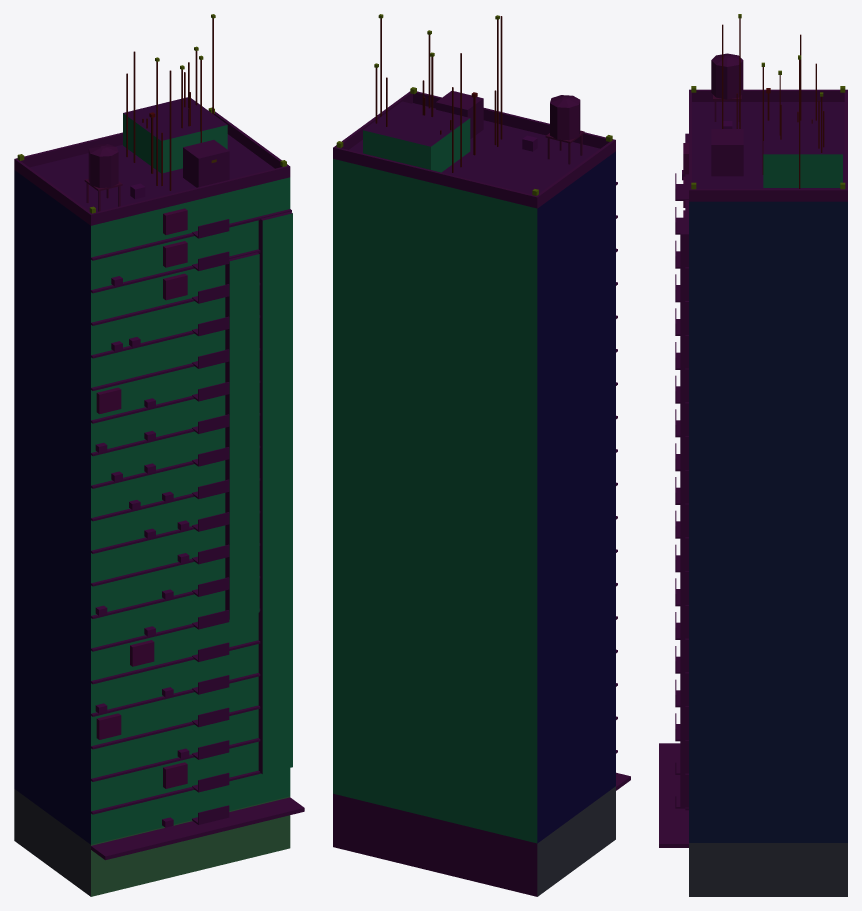
The model's file is slab_i.lod1.glb.
The picture shows the model from 3 angles, left to right: view 1: azimuth 30°, elevation 25°; view 2: azimuth 150°, elevation 25°; view 3: azimuth 270°, elevation 25°; orthographic projection. The views are drawn at different scales.
Visible parts, largest first — view 1: slab_i.lod1; view 2: slab_i.lod1; view 3: slab_i.lod1.
Boxes of the visible parts, <box> form: slab_i.lod1: <box>14,14,304,896</box>; slab_i.lod1: <box>333,14,630,896</box>; slab_i.lod1: <box>659,14,847,896</box>.
Size of the model in its own units: 19.2 by 73.67 by 15.2.
